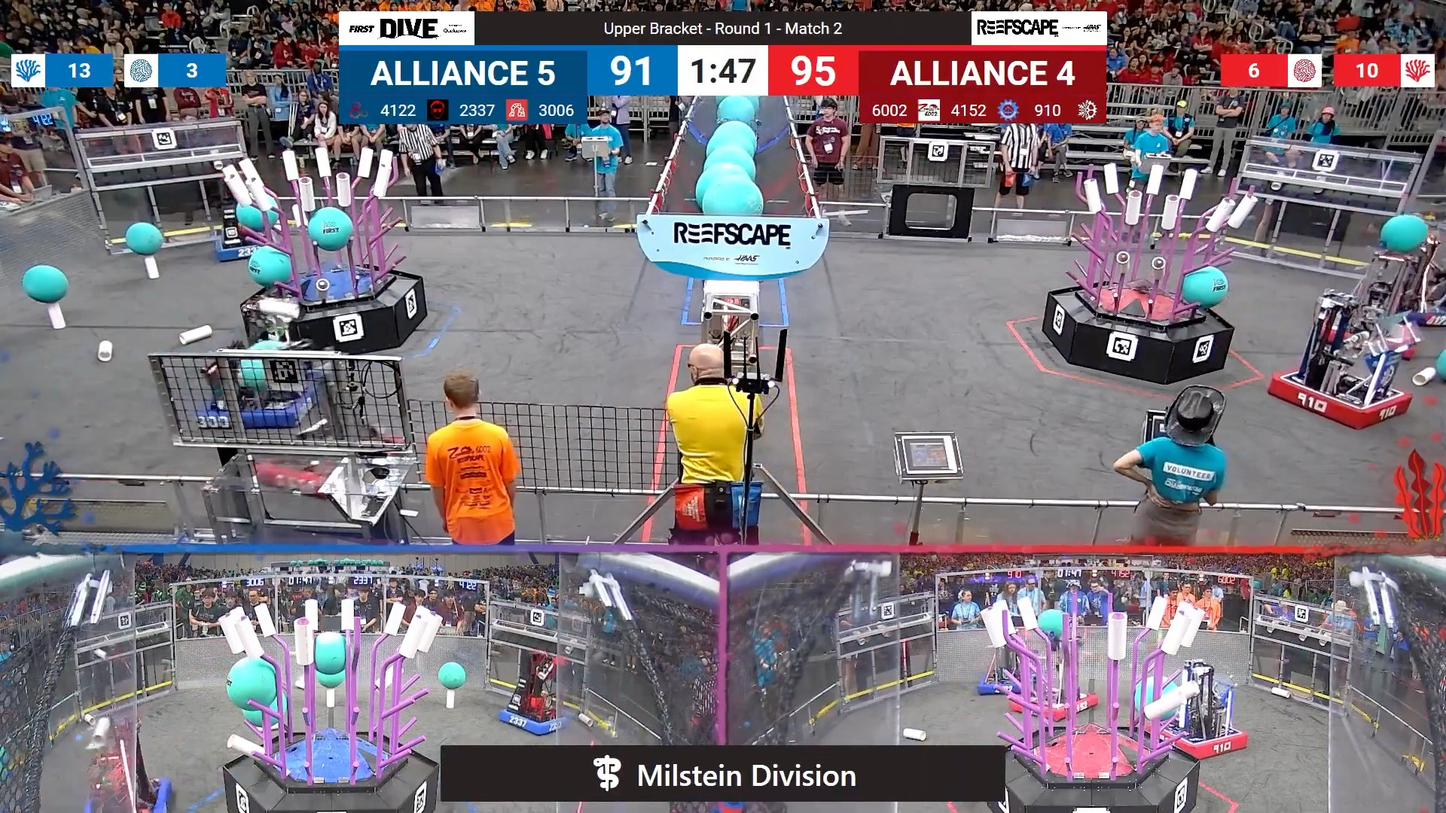bumpers: (244, 427, 407, 500), (191, 361, 326, 436), (1259, 370, 1414, 433), (1314, 317, 1424, 362), (1152, 720, 1252, 761), (72, 775, 178, 812), (490, 703, 576, 739)
